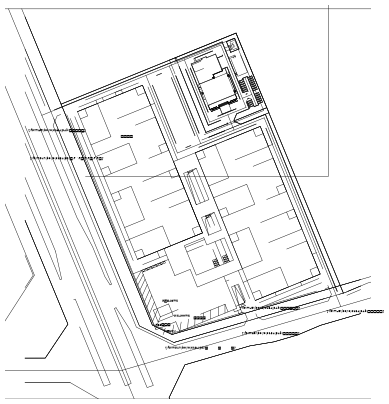door: (255, 313, 258, 316), (258, 305, 261, 308)
room: (209, 168, 230, 191), (198, 323, 221, 343), (240, 331, 258, 352), (21, 114, 30, 147), (234, 297, 250, 313), (196, 334, 212, 350), (205, 267, 221, 283), (181, 257, 197, 273), (186, 259, 202, 275), (262, 267, 278, 282), (212, 168, 222, 191), (354, 107, 378, 116), (225, 338, 236, 352), (198, 335, 211, 346), (221, 329, 235, 339), (226, 274, 237, 286), (228, 292, 240, 303), (80, 287, 88, 298), (138, 311, 149, 319), (174, 226, 185, 234), (199, 167, 207, 178), (299, 184, 310, 192), (163, 252, 171, 262), (138, 146, 148, 154), (205, 245, 213, 255), (288, 210, 296, 220), (324, 125, 332, 135), (102, 231, 113, 238), (116, 202, 123, 213), (263, 269, 274, 276), (227, 189, 238, 196), (241, 160, 248, 171), (263, 104, 273, 111), (239, 358, 246, 367), (220, 296, 228, 301), (236, 303, 245, 306), (232, 140, 238, 144), (155, 134, 161, 138), (160, 136, 166, 140), (265, 310, 270, 314), (259, 299, 264, 303), (253, 314, 258, 318), (252, 316, 257, 320), (251, 318, 256, 322), (231, 144, 236, 148), (151, 132, 156, 136), (220, 140, 225, 144), (221, 138, 226, 142), (222, 136, 227, 140), (213, 185, 218, 189), (232, 142, 237, 146), (146, 130, 151, 134), (266, 309, 271, 312), (267, 307, 272, 310), (267, 305, 272, 308), (268, 303, 273, 306), (258, 301, 263, 304), (257, 303, 262, 306), (250, 320, 255, 323), (249, 322, 254, 325), (248, 324, 253, 327), (258, 328, 263, 331), (259, 326, 264, 329), (259, 324, 264, 327), (260, 322, 265, 325), (261, 320, 266, 323), (262, 318, 267, 321), (263, 316, 268, 319), (165, 138, 170, 141), (194, 232, 199, 235), (233, 139, 238, 142), (243, 89, 247, 92), (225, 350, 231, 352), (223, 135, 227, 138), (238, 358, 240, 362), (205, 319, 207, 322), (266, 311, 269, 313), (260, 300, 263, 302), (259, 302, 262, 304), (252, 319, 255, 321), (251, 321, 254, 323), (267, 309, 269, 311), (268, 307, 270, 309), (254, 315, 256, 317), (253, 317, 255, 319), (251, 323, 253, 325), (259, 328, 261, 330), (260, 326, 262, 328), (269, 304, 272, 305), (261, 323, 264, 324), (262, 321, 265, 322), (269, 306, 271, 307), (259, 304, 261, 305), (250, 325, 252, 326), (261, 325, 263, 326), (263, 319, 265, 320), (264, 317, 266, 318), (221, 328, 222, 329)
wall: (245, 108, 359, 375), (39, 291, 245, 375), (60, 302, 181, 350), (245, 299, 278, 375), (181, 272, 216, 341), (21, 296, 48, 359), (181, 350, 245, 375), (177, 270, 202, 330), (156, 262, 181, 322), (206, 258, 267, 282), (206, 300, 245, 334), (230, 314, 253, 366), (196, 294, 216, 339), (147, 84, 165, 127), (245, 286, 278, 299), (240, 331, 258, 352), (208, 87, 234, 97), (220, 296, 245, 306), (213, 273, 236, 282), (198, 323, 206, 343), (165, 84, 184, 92), (237, 314, 245, 333), (201, 349, 220, 357), (198, 335, 211, 346), (223, 336, 231, 353), (226, 290, 245, 297), (216, 268, 234, 275), (277, 261, 284, 278), (262, 317, 268, 331), (216, 280, 229, 286), (153, 87, 159, 99), (235, 276, 249, 281), (143, 112, 149, 123), (239, 358, 246, 367), (139, 122, 145, 132), (141, 117, 147, 127), (148, 100, 153, 112), (151, 94, 156, 106), (160, 72, 165, 84), (176, 333, 181, 345), (248, 314, 253, 326), (146, 106, 151, 117), (157, 80, 162, 91), (198, 343, 209, 348), (244, 359, 249, 370), (214, 349, 224, 354), (227, 300, 237, 305), (227, 299, 237, 304), (203, 347, 214, 351), (221, 332, 231, 336), (269, 304, 273, 314), (240, 355, 249, 359), (235, 366, 244, 370), (219, 295, 228, 298), (238, 302, 247, 305), (234, 89, 237, 97), (217, 297, 225, 300), (237, 303, 245, 306), (209, 307, 212, 314), (220, 296, 227, 299), (239, 305, 246, 308), (177, 66, 179, 76), (228, 292, 231, 298), (257, 299, 260, 305), (238, 349, 245, 351), (237, 350, 244, 352), (238, 295, 240, 302), (168, 66, 170, 72), (145, 127, 147, 132), (186, 69, 187, 79), (194, 72, 195, 82), (252, 316, 257, 318), (259, 325, 264, 327), (258, 327, 263, 329), (249, 324, 254, 326), (266, 308, 271, 310), (267, 306, 272, 308), (234, 334, 236, 339), (161, 332, 166, 334), (192, 258, 197, 260), (253, 314, 258, 316), (248, 326, 253, 328), (252, 329, 257, 331), (264, 299, 269, 301), (210, 79, 211, 88), (238, 358, 240, 362), (250, 322, 254, 324), (258, 303, 262, 305), (259, 301, 263, 303), (252, 318, 256, 320), (251, 320, 255, 322), (266, 310, 270, 312), (200, 345, 202, 349), (239, 358, 241, 362), (237, 358, 239, 362), (209, 349, 213, 351), (265, 312, 269, 314), (260, 299, 264, 301), (257, 305, 261, 307), (263, 312, 265, 316), (258, 329, 262, 331), (235, 362, 237, 366), (243, 284, 246, 286), (263, 316, 268, 317), (263, 318, 267, 319), (262, 320, 266, 321), (261, 322, 265, 323), (260, 324, 264, 325), (268, 305, 272, 306), (224, 350, 225, 354), (234, 357, 238, 358), (233, 360, 237, 361), (245, 308, 246, 312), (276, 292, 280, 293), (181, 347, 183, 349), (269, 303, 273, 304), (216, 297, 217, 301), (247, 91, 250, 92), (205, 318, 208, 319), (221, 329, 222, 332), (202, 346, 203, 349), (236, 332, 239, 333), (244, 313, 247, 314), (237, 362, 240, 363), (221, 330, 222, 333), (235, 334, 238, 335), (239, 355, 240, 358), (246, 305, 247, 308), (206, 317, 209, 318), (244, 350, 245, 352), (243, 350, 245, 351), (244, 314, 246, 315), (236, 303, 237, 305), (219, 295, 220, 297), (218, 295, 219, 297), (227, 299, 228, 301), (175, 345, 176, 347), (230, 336, 231, 338), (221, 330, 222, 332), (220, 329, 222, 330), (245, 332, 246, 334), (244, 305, 245, 307), (208, 314, 210, 315), (207, 315, 209, 316), (239, 358, 241, 358), (246, 332, 246, 334)
window: (215, 289, 231, 306), (180, 326, 197, 342), (201, 243, 217, 259), (215, 342, 231, 357), (161, 319, 177, 334), (156, 317, 172, 332), (181, 327, 196, 342), (252, 312, 258, 317), (256, 303, 261, 308), (254, 312, 258, 316)
